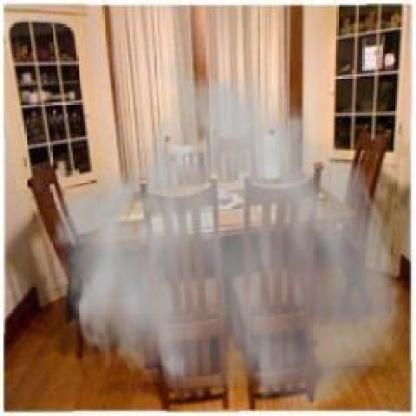Smoke: (48, 55, 411, 414)
